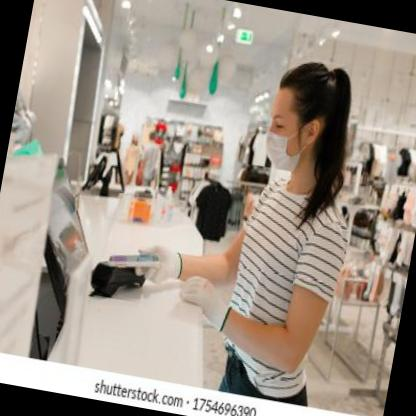Gloves: (176, 275, 237, 332), (132, 241, 186, 288)
